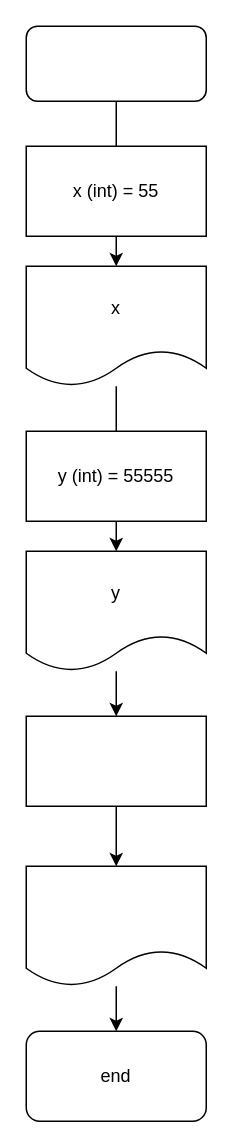
This 233x1148 diagram has some shape labels left out. Here are the shapes that lost their labels. From the top down, the centre of each, then its label:
[115,63]: start
[115,760]: mul (int) = x*y
[115,925]: mul
